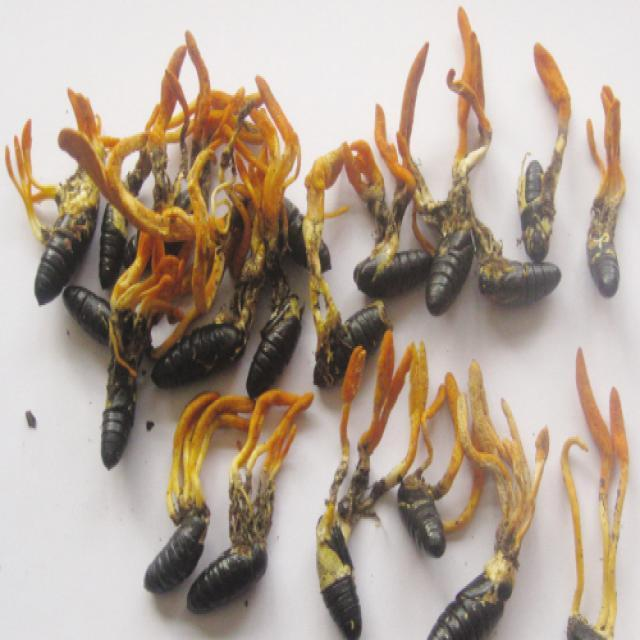Cordyceps militaris: (14, 36, 299, 469), (315, 325, 425, 640), (429, 377, 547, 634), (193, 388, 311, 612), (141, 388, 250, 594), (560, 348, 628, 633), (405, 366, 488, 554), (522, 39, 574, 270), (583, 88, 627, 295)
